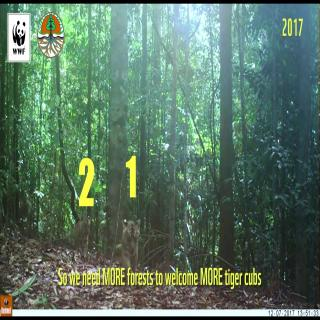Tiger: (118, 213, 140, 268), (68, 213, 92, 263)
